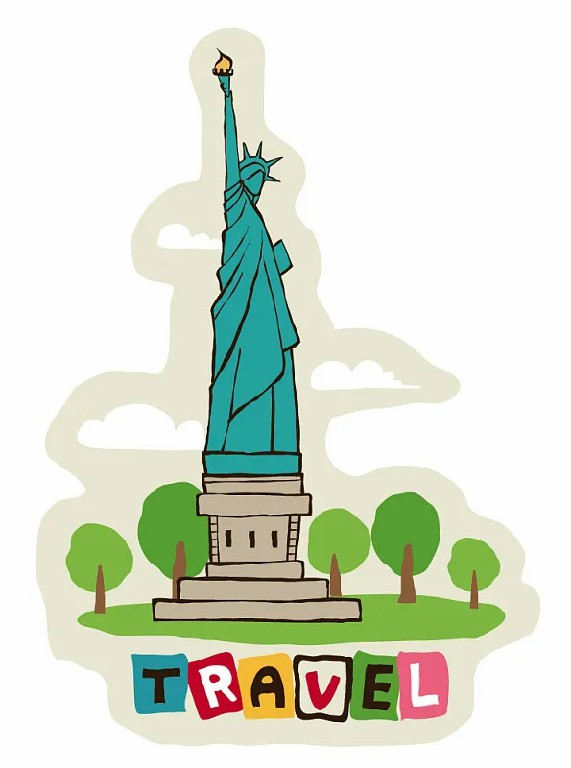SL: (196, 48, 311, 582)
